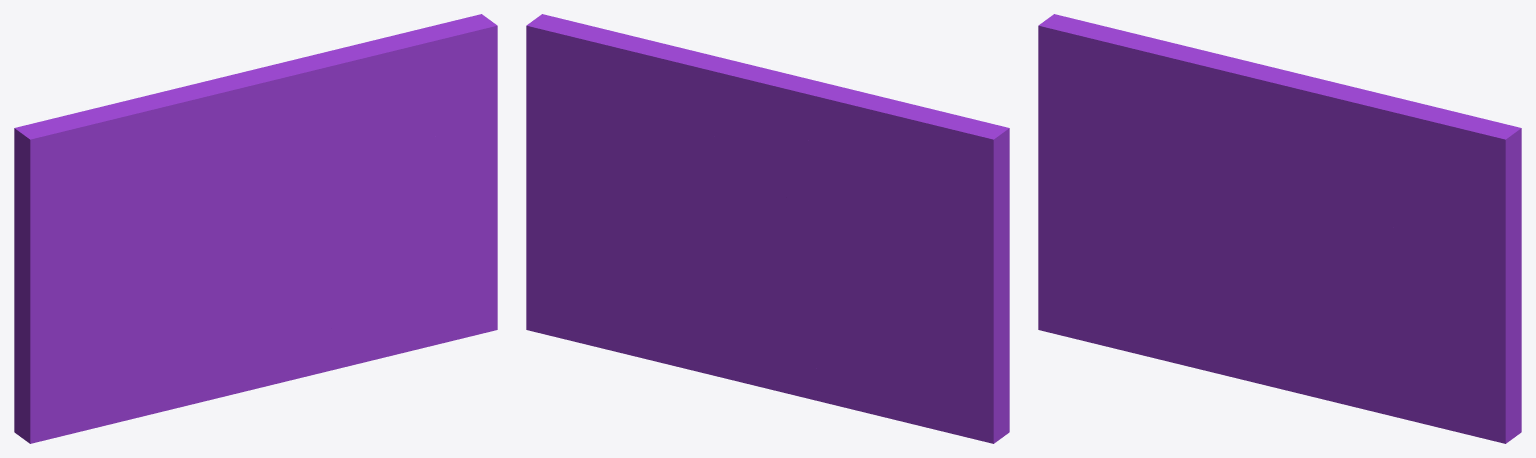
The model's file is Barrier_106_chunks.fbx.
3 renders of one model, left to right at view 1: azimuth 30°, elevation 25°; view 2: azimuth 150°, elevation 25°; view 3: azimuth 330°, elevation 25°, orthographic.
Visible parts, largest first — view 1: Barrier_106_1, Barrier_106_2, Barrier_106_0, Barrier_106_5, Barrier_106_6, Barrier_106_3; view 2: Barrier_106_1, Barrier_106_2, Barrier_106_6, Barrier_106_5, Barrier_106_3, Barrier_106_0, Barrier_106_4; view 3: Barrier_106_1, Barrier_106_2, Barrier_106_0, Barrier_106_5, Barrier_106_6, Barrier_106_3.
Boxes of the visible parts, x1,y1,x2,y2 form: Barrier_106_1: [14, 99, 248, 443]; Barrier_106_2: [292, 96, 497, 366]; Barrier_106_0: [147, 227, 345, 415]; Barrier_106_5: [332, 14, 497, 189]; Barrier_106_6: [132, 38, 391, 139]; Barrier_106_3: [157, 135, 350, 230]; Barrier_106_1: [759, 103, 1009, 443]; Barrier_106_2: [526, 75, 770, 380]; Barrier_106_6: [626, 40, 907, 141]; Barrier_106_5: [526, 14, 660, 160]; Barrier_106_3: [686, 138, 842, 223]; Barrier_106_0: [733, 285, 836, 405]; Barrier_106_4: [656, 93, 716, 176]; Barrier_106_1: [1038, 14, 1256, 358]; Barrier_106_2: [1299, 178, 1521, 443]; Barrier_106_0: [1155, 224, 1353, 406]; Barrier_106_5: [1340, 104, 1521, 232]; Barrier_106_6: [1140, 43, 1421, 168]; Barrier_106_3: [1165, 88, 1359, 240].
Bounding box in the file's own units: 462 × 288 × 27.2.
